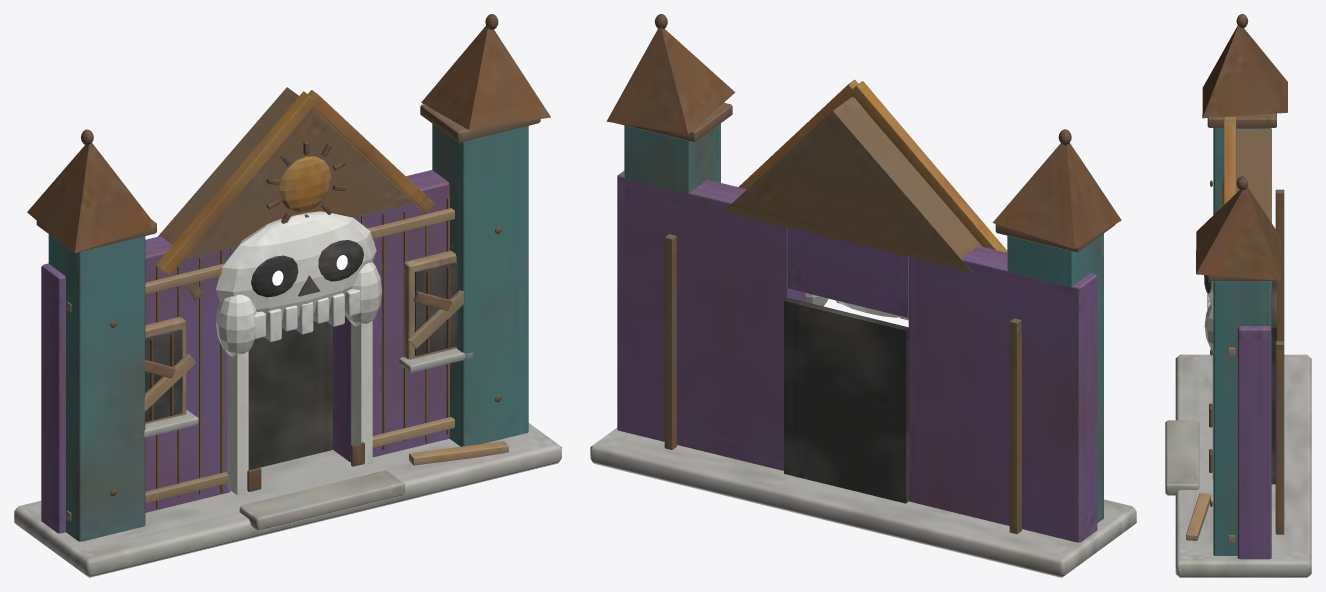
File: CE04_haunted_house_facade.glb
3 renders of one model, left to right at view 1: azimuth 30°, elevation 25°; view 2: azimuth 150°, elevation 25°; view 3: azimuth 270°, elevation 25°, orthographic. The views are drawn at different scales.
Parts seen in each view (by area): view 1: Chipped foundation; view 2: Chipped foundation; view 3: Chipped foundation.
Boxes of the visible parts, bbox=[...] form: Chipped foundation: bbox=[14, 14, 561, 577]; Chipped foundation: bbox=[590, 14, 1136, 577]; Chipped foundation: bbox=[1165, 14, 1311, 577].
Bounding box in the file's own units: 8 × 6.92 × 2.37.
Materials: 11 (10 with a texture image).
